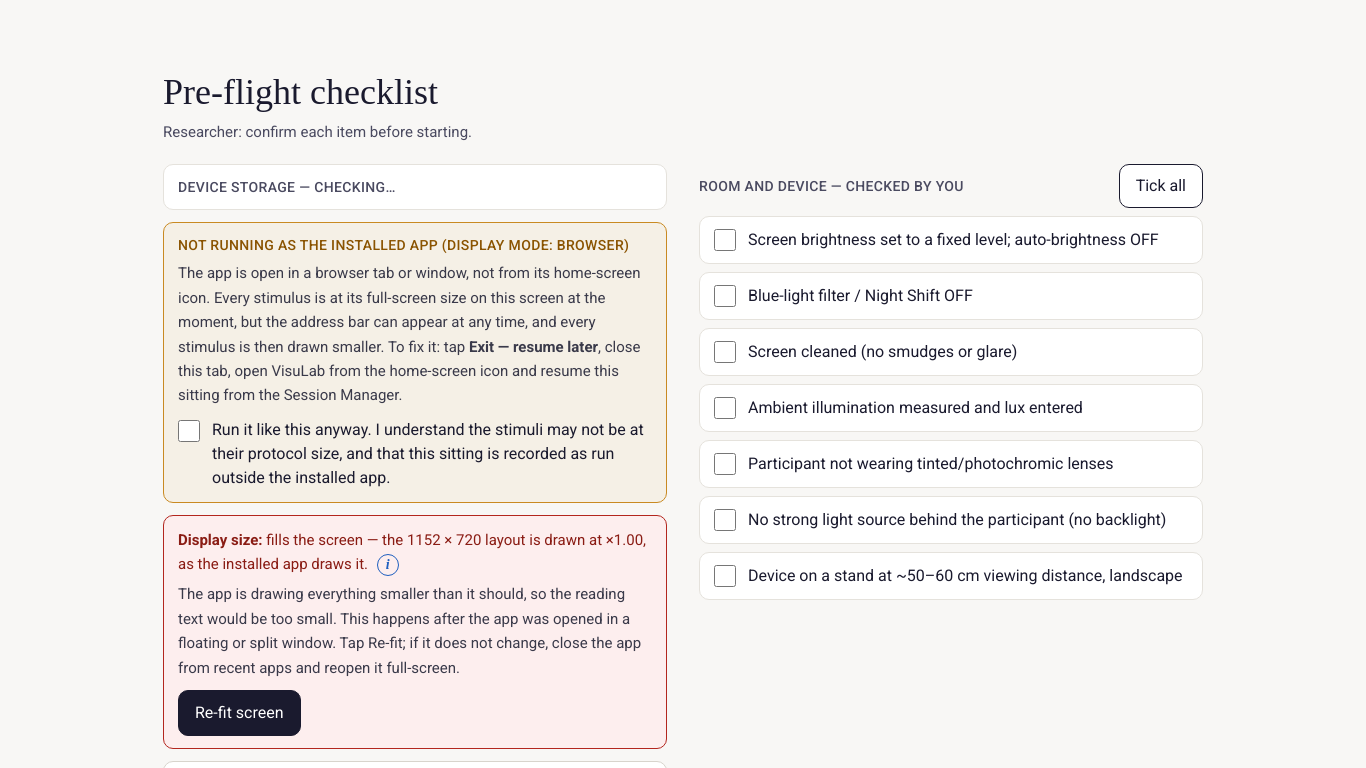
Test case: pre-flight: Tick all › asks first, in words, and ticks nothing when the researcher goes back
Check: the label "Screen brightness set to a fixed level; auto-brightness OFF" is shown, box top-left (699, 216), bottom-right (1203, 264)
Check: the label "Blue-light filter / Night Shift OFF" is shown, box top-left (699, 272), bottom-right (1203, 320)
Click the button with test id "preflight-tick-all": click(1161, 186) top-left (1119, 164), bottom-right (1203, 208)
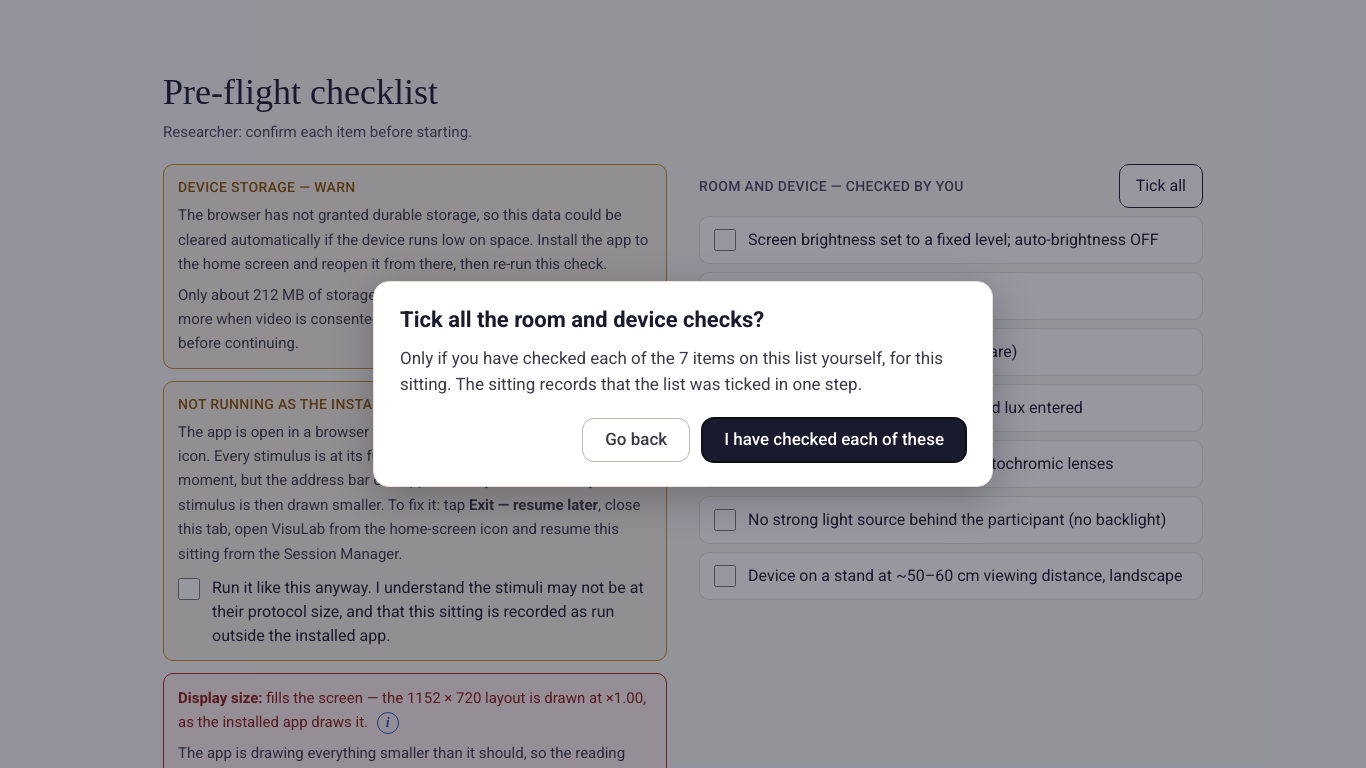
Check: the dialog with test id "preflight-tick-all-dialog" shows "Only if you have checked each of the 7 items", box top-left (400, 348), bottom-right (947, 394)
Check: the button with test id "confirm-ok" reads "I have checked each of these", box top-left (702, 418), bottom-right (966, 462)
Check: the button with test id "confirm-cancel" is shown
Click the button with test id "confirm-cancel": click(636, 440) top-left (582, 418), bottom-right (690, 462)
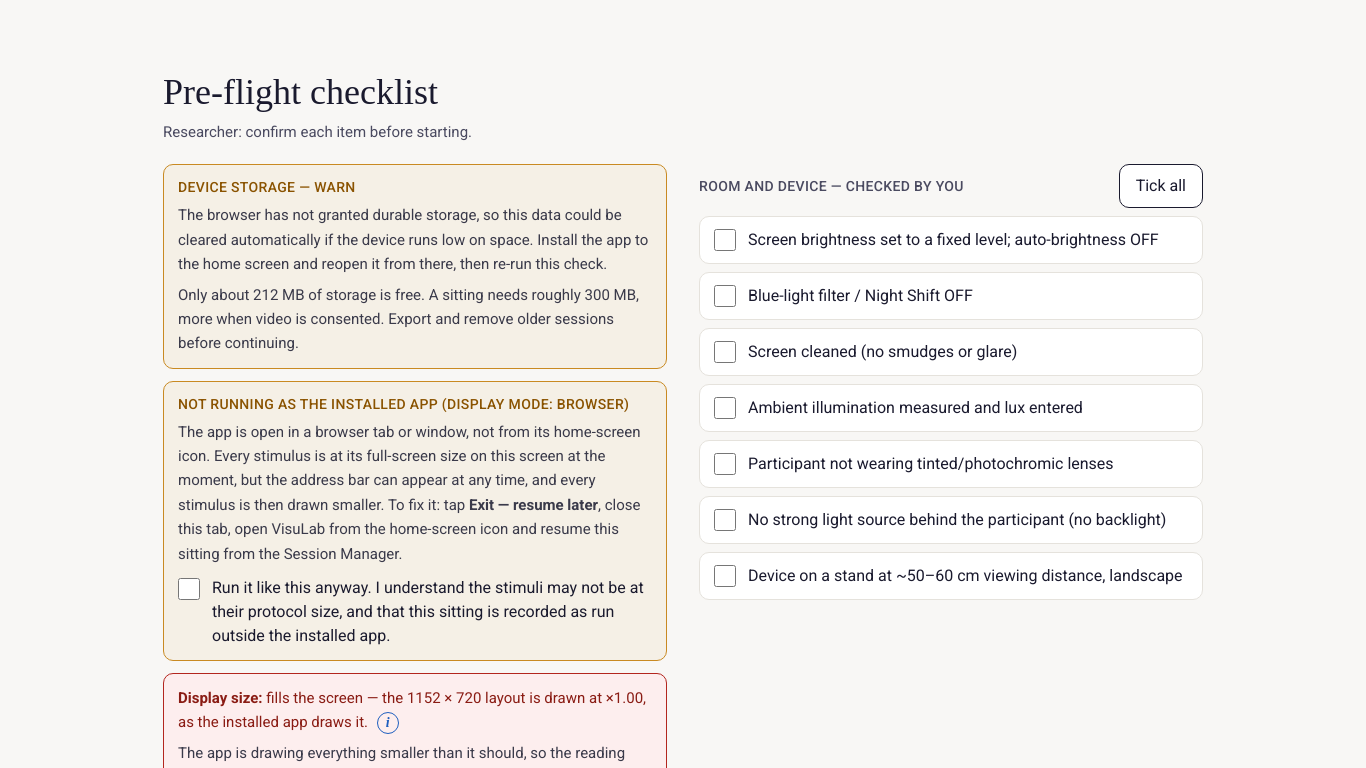
Check: the label "Screen brightness set to a fixed level; auto-brightness OFF" is shown, box top-left (699, 216), bottom-right (1203, 264)
Check: the dialog with test id "preflight-tick-all-dialog" is gone
